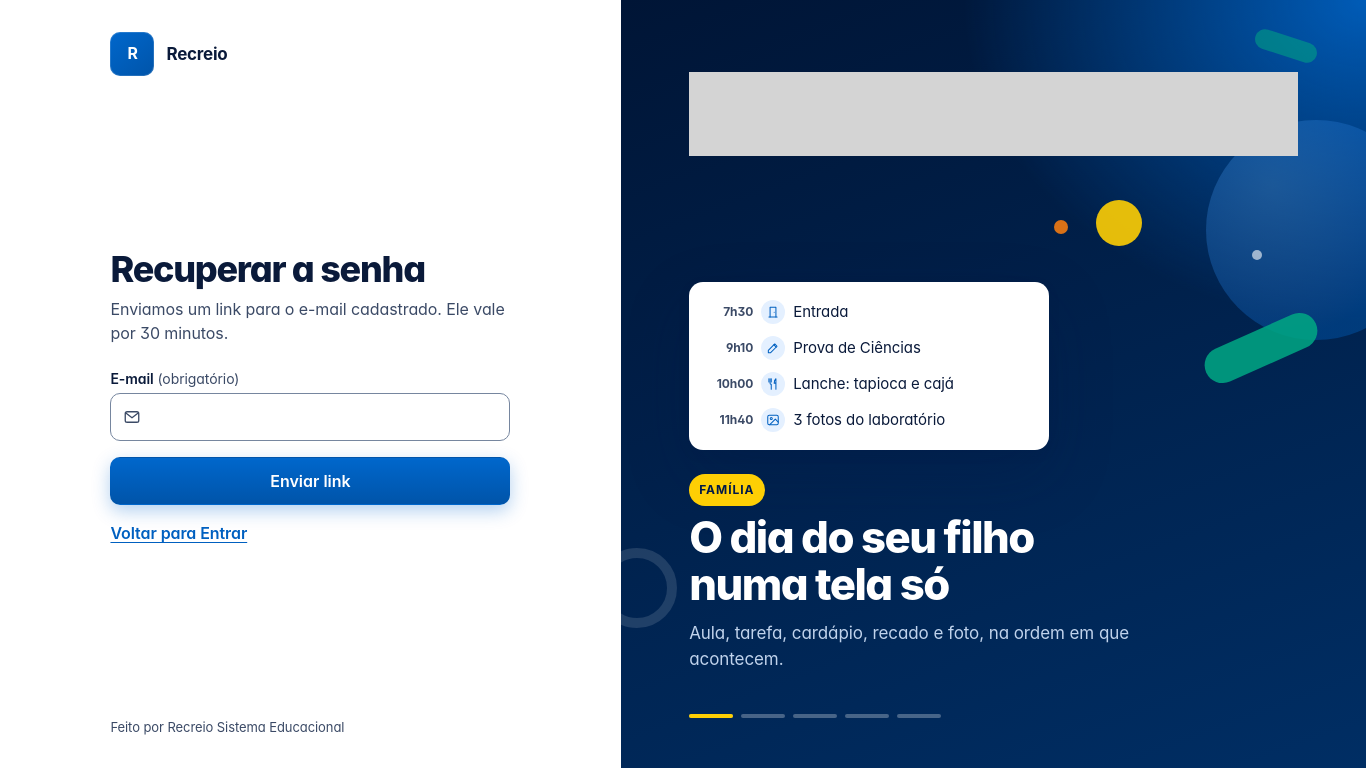
Test: esqueci a senha › pede o link pelo e-mail e confirma o envio
Type "fernanda.lima@colegiorecreio.test" into the field labelled "E-mail (obrigatório)".
click(324, 417); type("fernanda.lima@colegiorecreio.test")  # box [150,394,498,440]
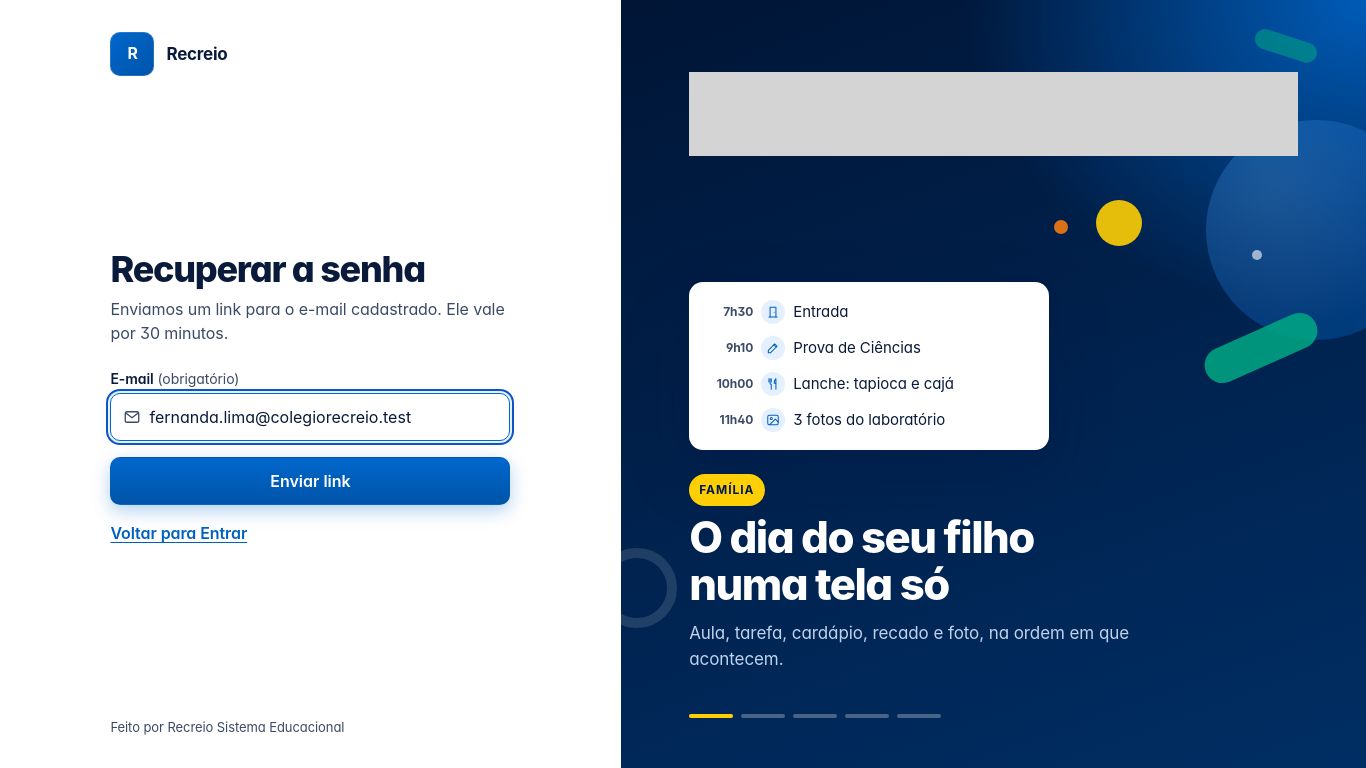
Click the button "Enviar link".
click(310, 481)  # box [110,457,510,505]
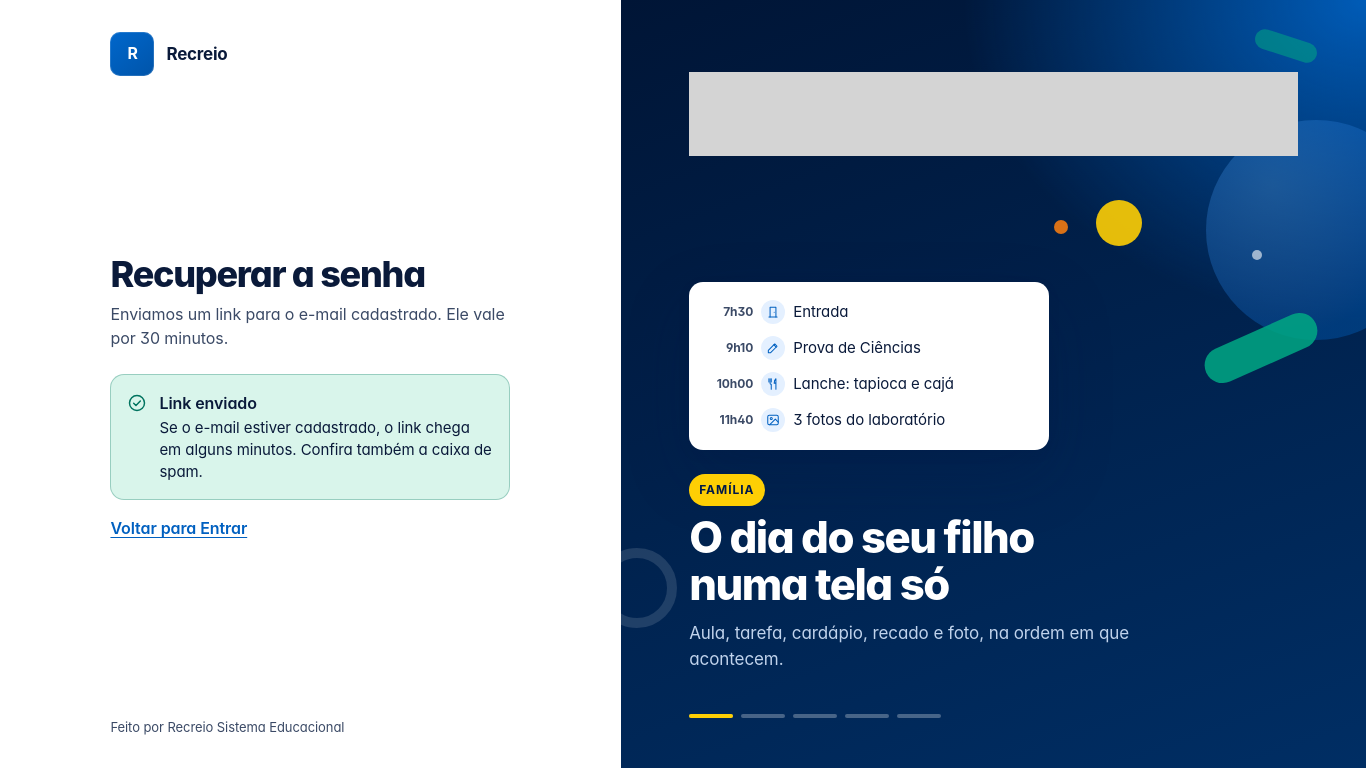
Now the text "Link enviado" is shown, box [160,393,257,413]
